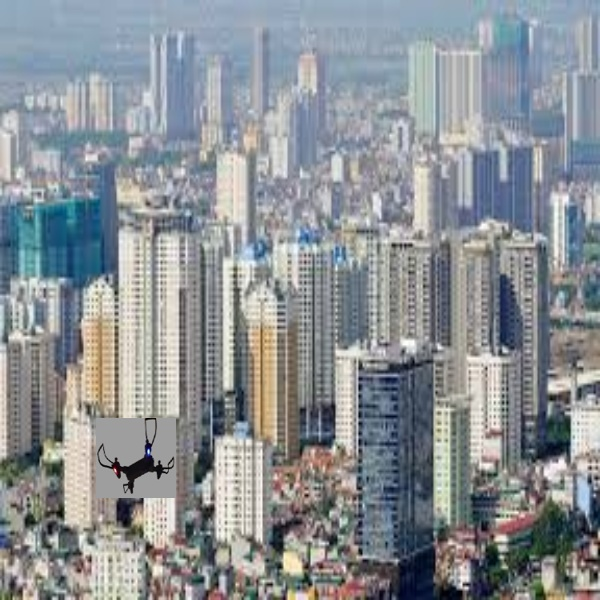drone: (96, 422, 179, 489)
